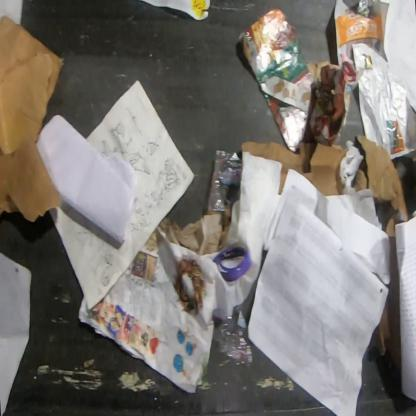cardboard: (236, 7, 342, 152), (352, 134, 415, 374), (0, 14, 66, 156), (240, 140, 349, 197), (0, 143, 63, 223), (222, 207, 232, 228)
rigid_plastic: (212, 246, 251, 282)
soft_plastic: (212, 302, 254, 368), (207, 149, 243, 212)
